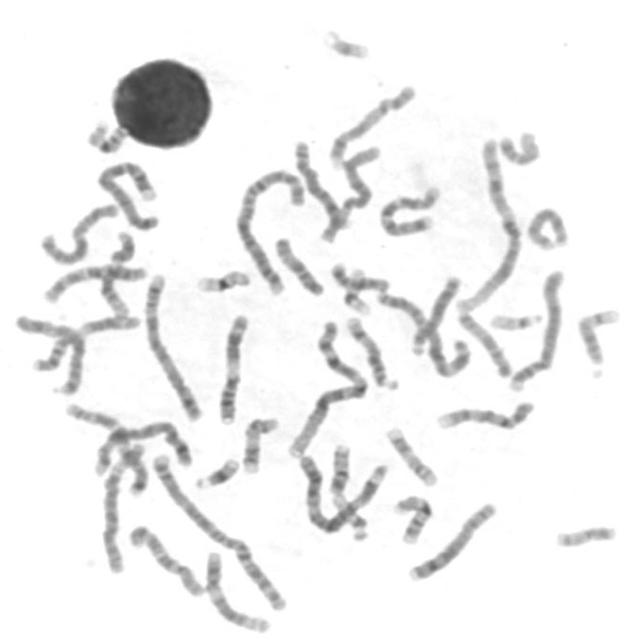A1: (450, 133, 526, 316), (282, 314, 372, 461)
A2: (146, 448, 291, 616), (232, 164, 308, 296)
A3: (372, 286, 474, 380), (295, 447, 384, 538)
B4: (503, 263, 568, 394), (90, 156, 162, 232)
B5: (139, 268, 206, 422), (87, 415, 195, 478)
C10: (122, 519, 208, 600), (38, 258, 151, 304)
C11: (24, 310, 144, 374), (212, 308, 252, 427)
C12: (200, 545, 273, 636), (94, 225, 139, 318)
C6: (94, 434, 150, 576), (315, 139, 383, 245)
C7: (60, 398, 150, 499), (374, 180, 444, 239)
C8: (403, 496, 500, 584), (288, 135, 353, 232)
C9: (324, 79, 420, 168), (431, 395, 538, 433)
D13: (406, 271, 464, 357), (525, 205, 573, 249)
D14: (340, 311, 402, 393), (572, 303, 623, 378)
D15: (451, 306, 515, 379), (269, 232, 327, 298)
E16: (388, 489, 436, 546), (81, 116, 130, 155)
E17: (381, 422, 441, 488), (237, 412, 282, 476)
E18: (324, 437, 363, 497), (326, 258, 392, 293)
F19: (336, 261, 374, 317), (191, 264, 253, 294)
F20: (494, 126, 544, 168), (550, 519, 620, 549)
G21: (317, 22, 373, 62), (188, 452, 241, 491)
G22: (333, 498, 368, 544), (485, 306, 545, 332)
X: (10, 309, 87, 398), (35, 198, 121, 266)
